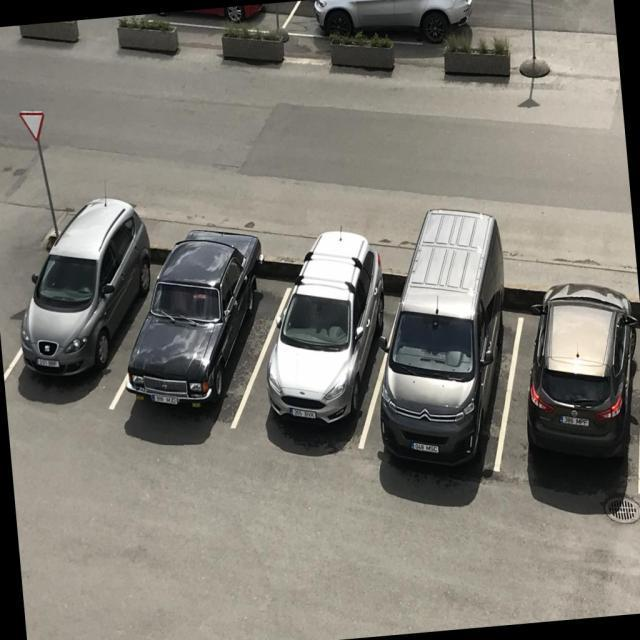car: (348, 272, 538, 498), (104, 240, 310, 447), (225, 252, 408, 482), (0, 217, 166, 421), (494, 279, 640, 510), (288, 0, 482, 64), (143, 1, 304, 48)
